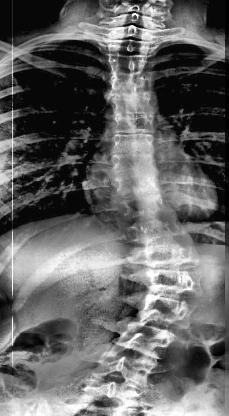Vertebrae: (114, 320, 180, 362), (92, 350, 158, 392), (131, 294, 199, 330), (132, 268, 206, 298), (133, 236, 201, 268), (128, 214, 189, 246), (121, 193, 175, 221), (107, 88, 157, 116), (114, 172, 164, 200), (110, 132, 158, 158), (111, 112, 159, 136), (111, 154, 160, 176), (108, 72, 150, 95), (107, 54, 151, 74), (108, 38, 154, 56)
